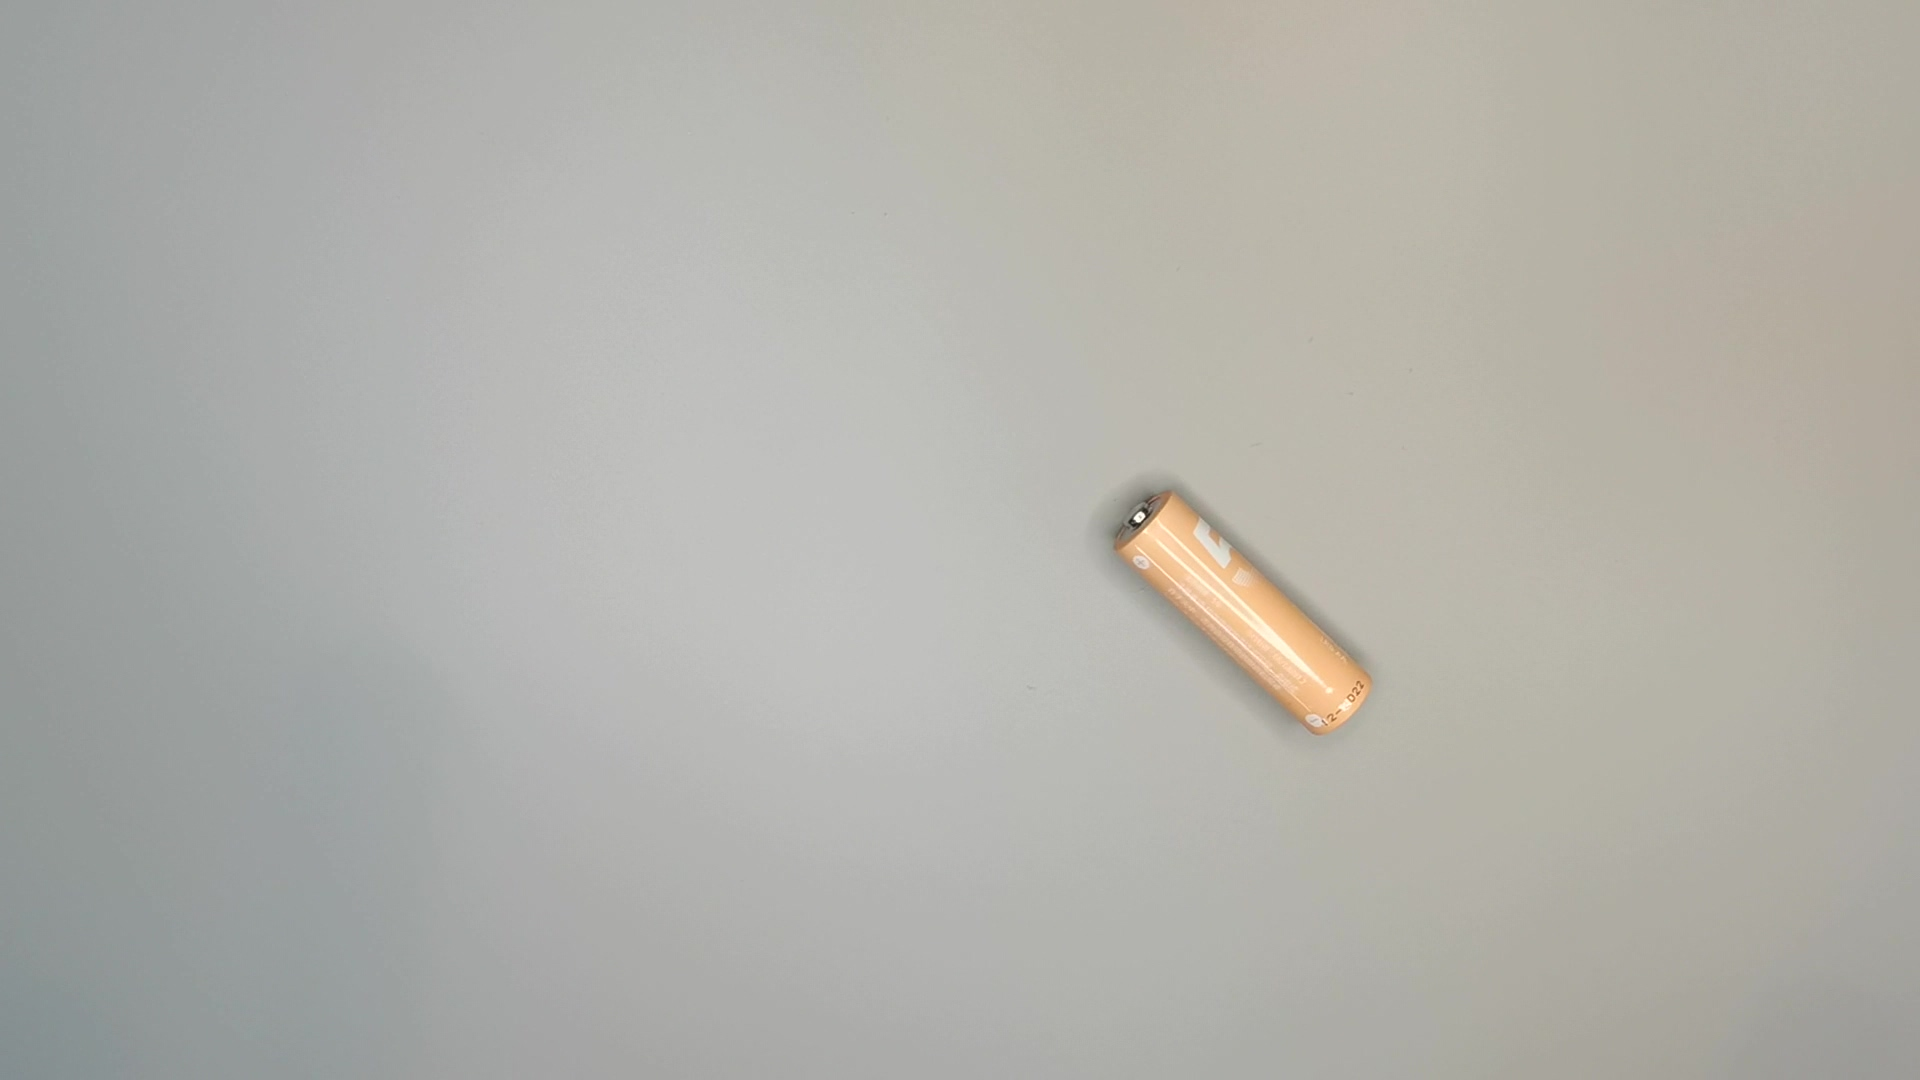battery: (1112, 483, 1377, 746)
